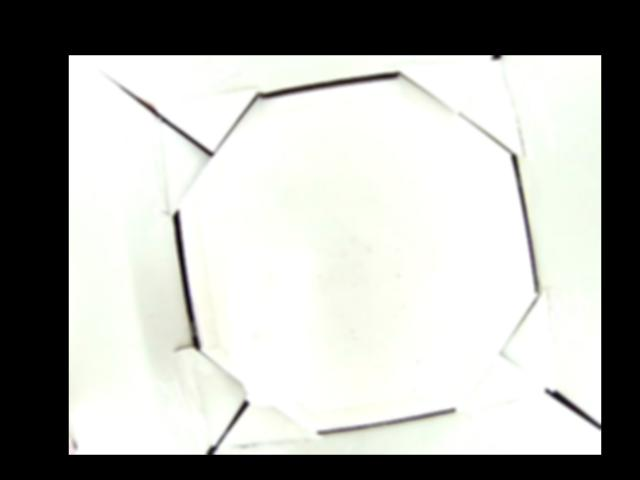Bottle: (226, 246, 311, 403)
